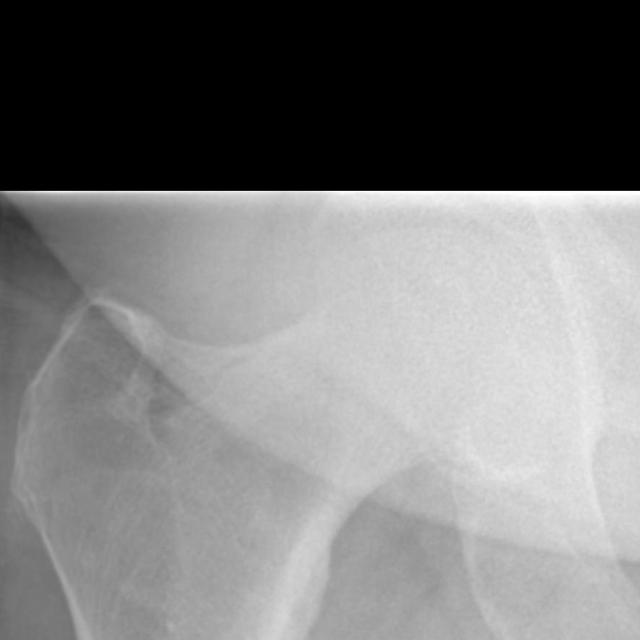Fitted_femural_head: (215, 215, 432, 222)
